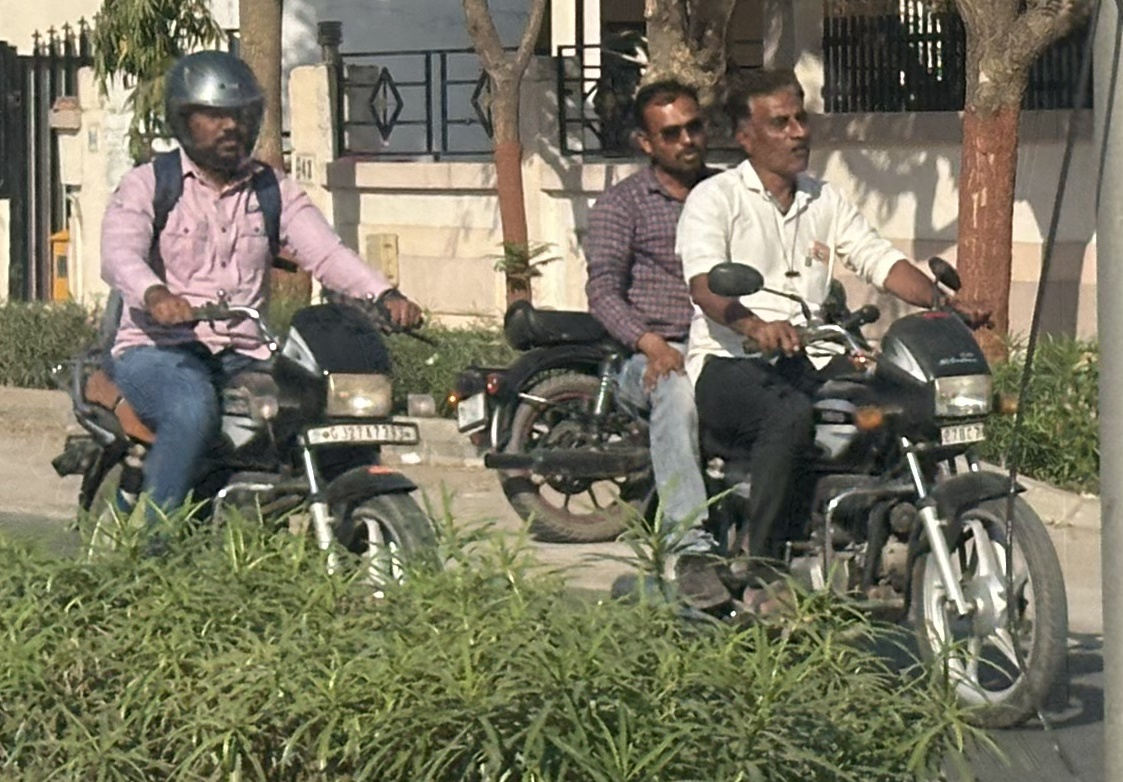BikeWithRider: (442, 53, 1082, 743), (36, 40, 461, 623)
Helmet: (150, 41, 279, 180)
NoHelmet: (719, 60, 829, 180), (617, 68, 726, 183)
